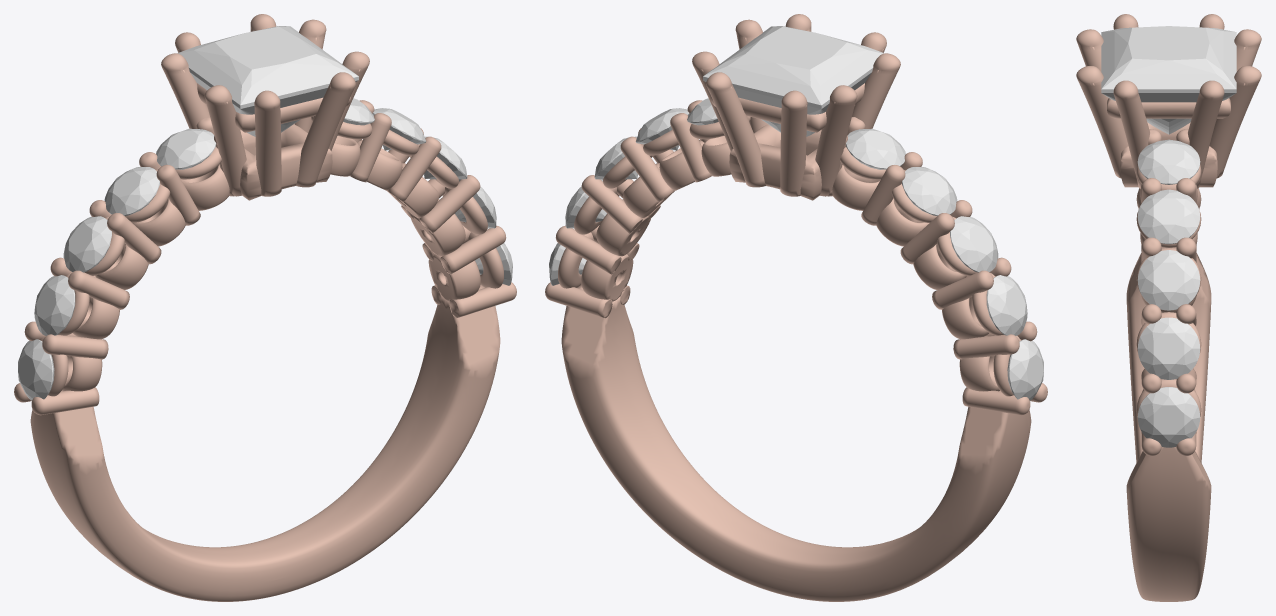
File: diamond-princess-rosegold-8prong-straighttaperedband-11stone.glb
The picture shows the model from 3 angles, left to right: view 1: azimuth 30°, elevation 25°; view 2: azimuth 150°, elevation 25°; view 3: azimuth 270°, elevation 25°; orthographic projection.
Parts seen in each view (by area): view 1: metal, stone, side.002, side.003, side.001, side.004, side, side.006, side.007; view 2: metal, stone, side.002, side.003, side.001, side.004, side, side.006, side.007; view 3: metal, stone, side.008, side.007, side.009, side.006, side.005.
Part boxes in pixels (x1,y1,x2,y2): metal: (14, 14, 516, 601); stone: (177, 26, 358, 136); side.002: (63, 216, 111, 272); side.003: (104, 167, 159, 215); side.001: (34, 275, 75, 335); side.004: (156, 128, 216, 169); side: (18, 339, 54, 400); side.006: (372, 108, 426, 150); side.007: (424, 136, 467, 179); metal: (545, 14, 1047, 601); stone: (703, 26, 884, 136); side.002: (950, 216, 998, 272); side.003: (902, 167, 957, 215); side.001: (986, 275, 1027, 335); side.004: (845, 128, 905, 169); side: (1007, 339, 1043, 400); side.006: (635, 108, 689, 150); side.007: (594, 136, 637, 179); metal: (1076, 14, 1261, 601); stone: (1101, 26, 1236, 134); side.008: (1137, 317, 1200, 379); side.007: (1137, 250, 1200, 310); side.009: (1137, 387, 1200, 447); side.006: (1137, 189, 1200, 244); side.005: (1137, 139, 1200, 184).
Size of the model in its own units: 22.05 by 23.65 by 7.42.
